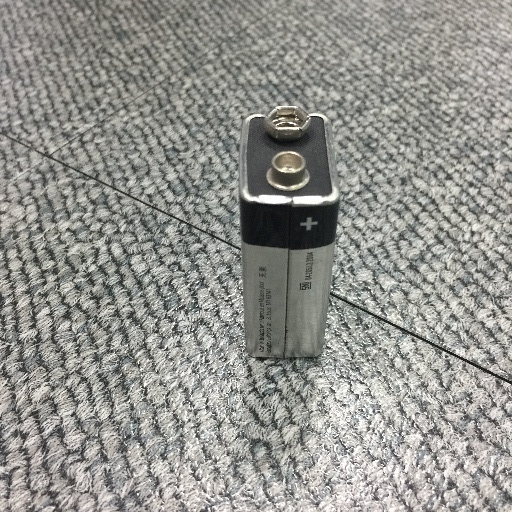Battery_3: (223, 94, 351, 379)
